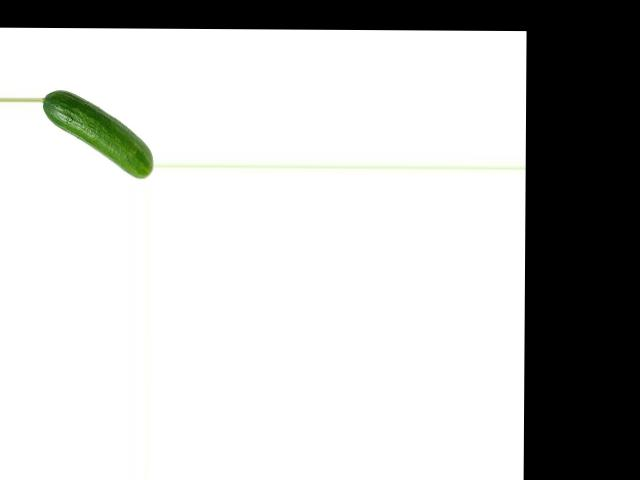cucumber: (41, 89, 154, 178)
